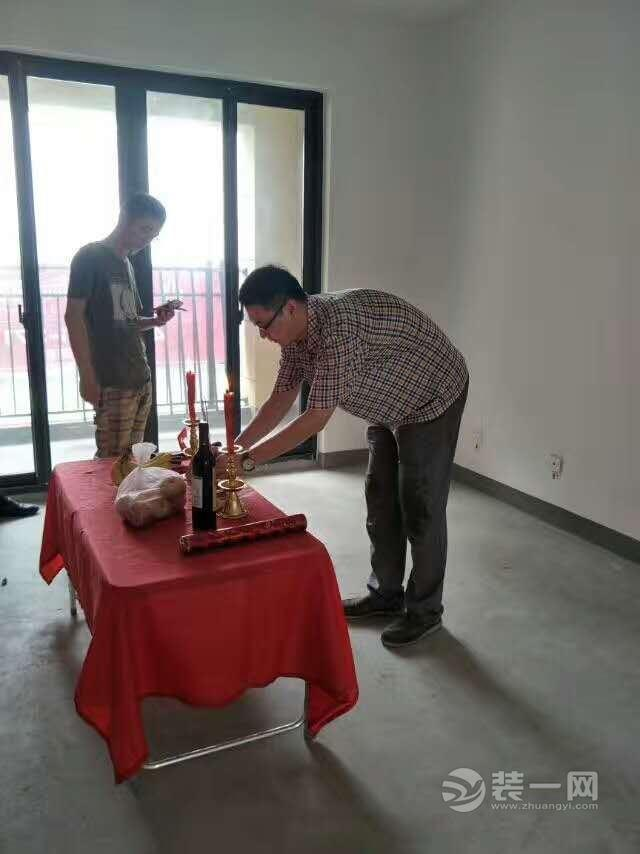helmet: (236, 262, 309, 352), (110, 190, 169, 250)
not_reflective: (291, 284, 473, 426), (65, 245, 147, 388)
